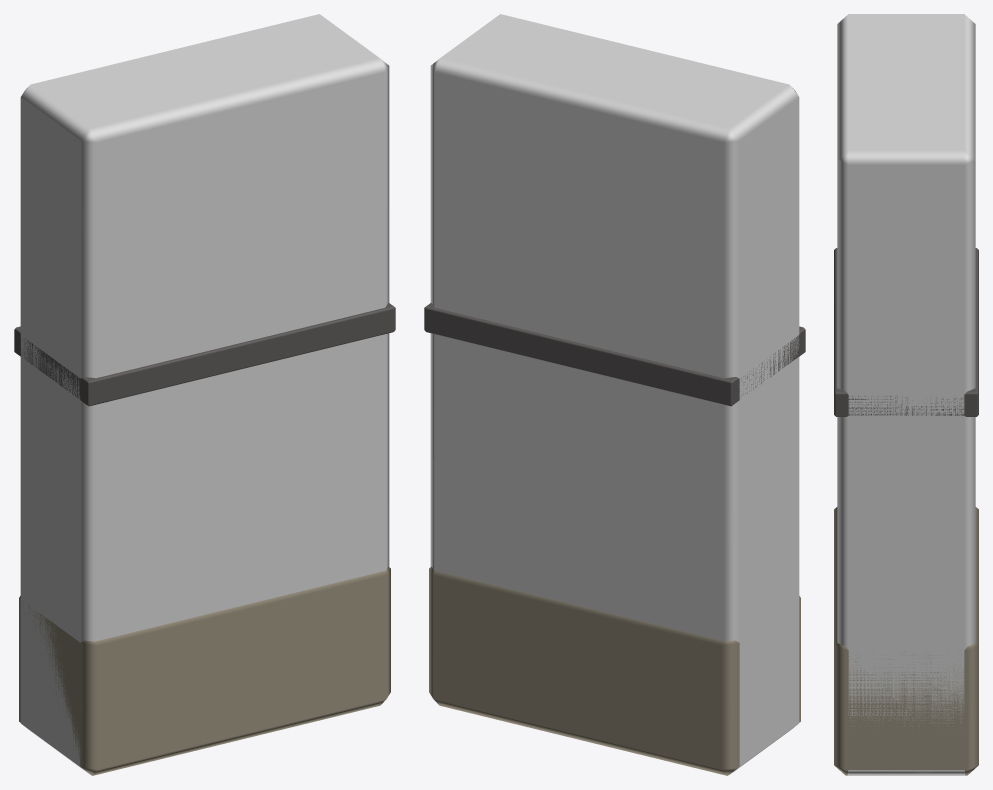
File: stone-halls-wall-outer.df4eec0a.glb
3 renders of one model, left to right at view 1: azimuth 30°, elevation 25°; view 2: azimuth 150°, elevation 25°; view 3: azimuth 270°, elevation 25°, orthographic. The views are drawn at different scales.
Visible parts, largest first — view 1: body; view 2: body; view 3: body.
Part boxes in pixels (x1=…): body: x1=14, y1=14, x2=395, y2=775; body: x1=424, y1=14, x2=805, y2=775; body: x1=834, y1=14, x2=978, y2=775.
Size of the model in its own units: 1 by 2 by 0.42.
